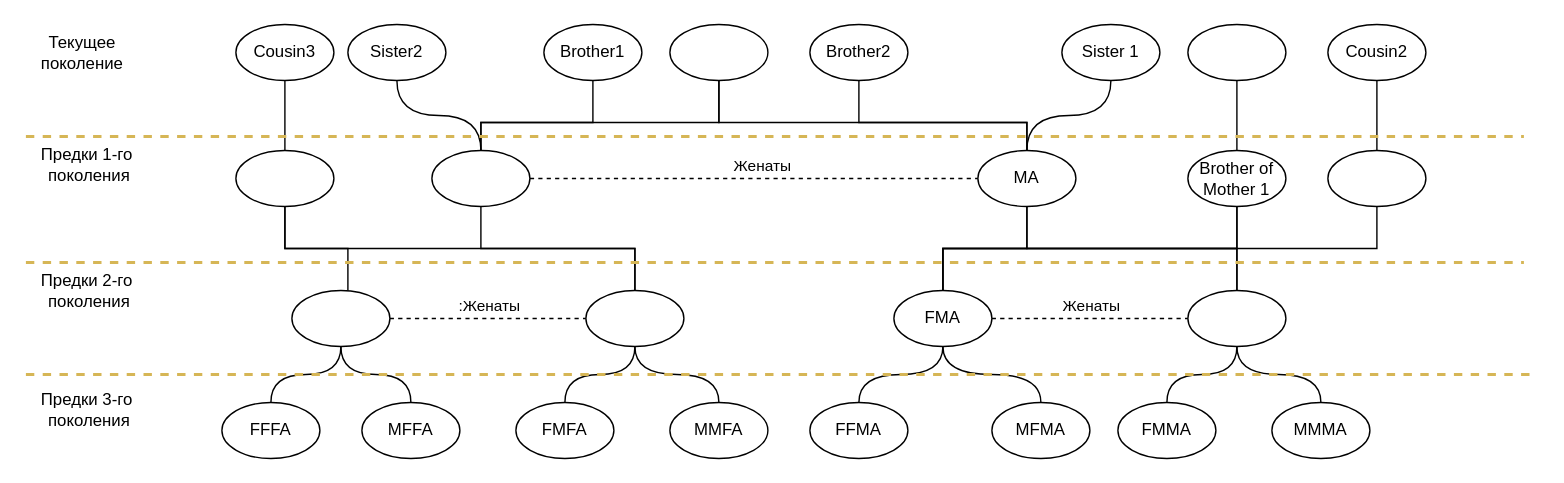
This 1564x483 diagram has some shape labels left out. The box of each missing label's shape, as (x1, y1, x2, y2) in pixels:
CA: (668, 23, 768, 80)
Cousin1: (1186, 23, 1286, 80)
FA: (430, 149, 530, 206)
FFA: (290, 289, 390, 346)
MFA: (584, 289, 684, 346)
MMA: (1186, 289, 1286, 346)
Sister of Father 1: (234, 149, 334, 206)
Sister of Mother 1: (1326, 149, 1426, 206)
